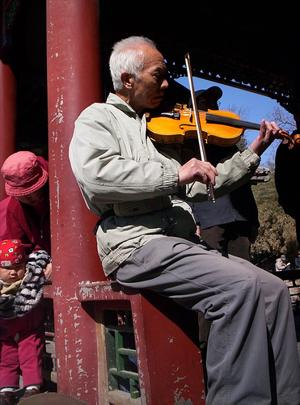person: (70, 39, 300, 405)
